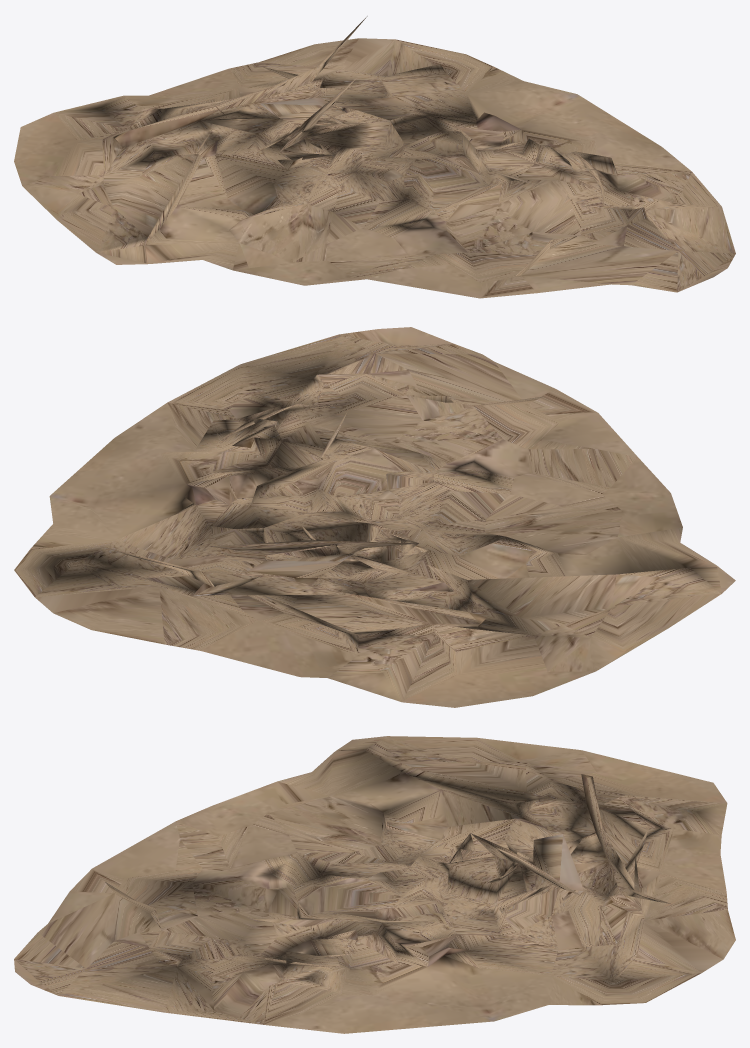
Rendered from driftwood.lod0.glb.
3 renders of one model, top to bottom at view 1: azimuth 30°, elevation 25°; view 2: azimuth 150°, elevation 25°; view 3: azimuth 270°, elevation 25°, orthographic. The views are drawn at different scales.
Parts seen in each view (by area): view 1: Model_material0_0; view 2: Model_material0_0; view 3: Model_material0_0.
Boxes of the visible parts, x1=… form: Model_material0_0: x1=14, y1=16, x2=735, y2=298; Model_material0_0: x1=14, y1=327, x2=735, y2=707; Model_material0_0: x1=14, y1=736, x2=735, y2=1033.
Size of the model in its own units: 6.44 by 0.6621 by 6.92.
Materials: 1 (1 with a texture image).
